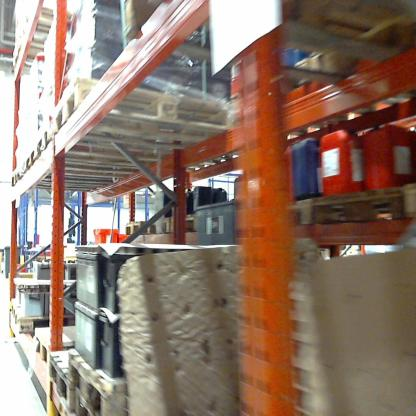pallet: (109, 1, 415, 73), (52, 74, 231, 161), (16, 141, 174, 191), (34, 119, 171, 172), (307, 180, 416, 233), (66, 345, 133, 413), (9, 24, 80, 71), (8, 165, 137, 190), (17, 1, 104, 32), (272, 187, 319, 237), (8, 306, 86, 336), (31, 325, 83, 369), (45, 347, 73, 414), (155, 204, 203, 237), (66, 383, 103, 414), (124, 213, 157, 241)
